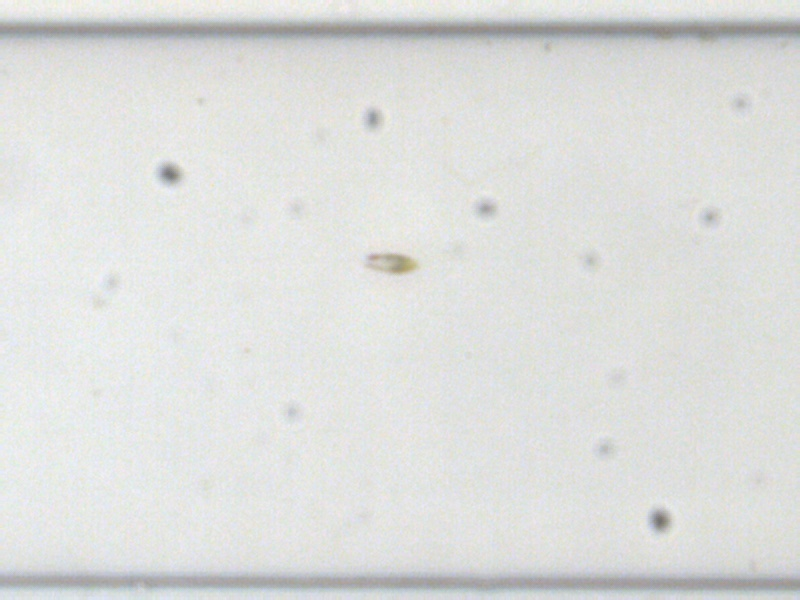Dunaliella salina: (362, 247, 418, 276)
